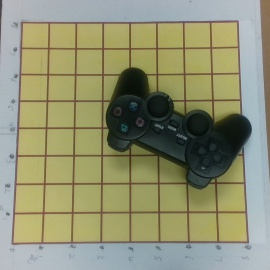remote: (107, 66, 252, 190)
